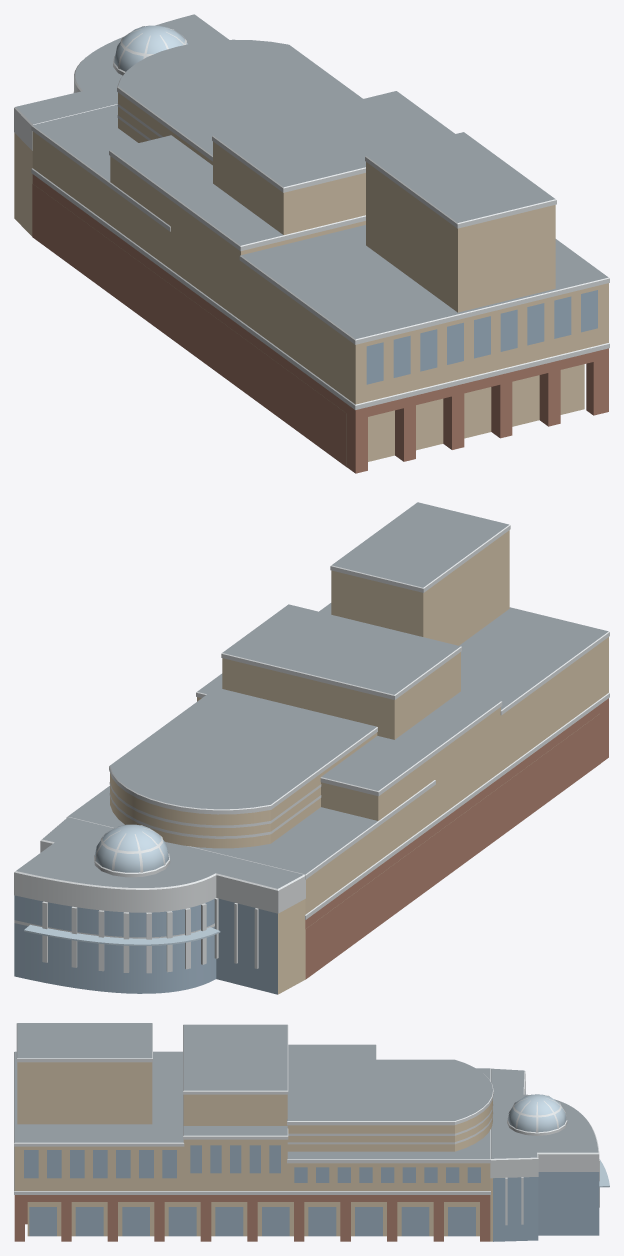
File: belk-theater.glb
3 renders of one model, top to bottom at view 1: azimuth 30°, elevation 25°; view 2: azimuth 150°, elevation 25°; view 3: azimuth 270°, elevation 25°, orthographic. The views are drawn at different scales.
Visible parts, largest first — view 1: Belk Theater; view 2: Belk Theater; view 3: Belk Theater.
Part boxes in pixels (x1,y1,x2,y2): Belk Theater: (14,14,609,473); Belk Theater: (14,502,609,994); Belk Theater: (14,1023,609,1241).
Bounding box in the file's own units: 41.73 × 35 × 115.
